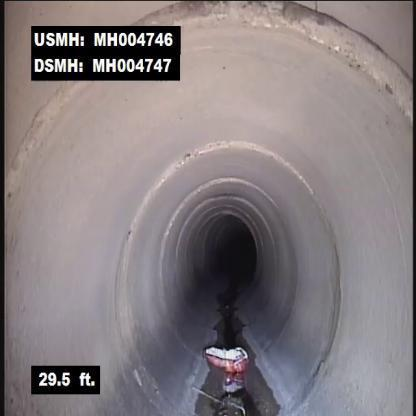Joint offset: (191, 0, 413, 102), (155, 112, 323, 182)
